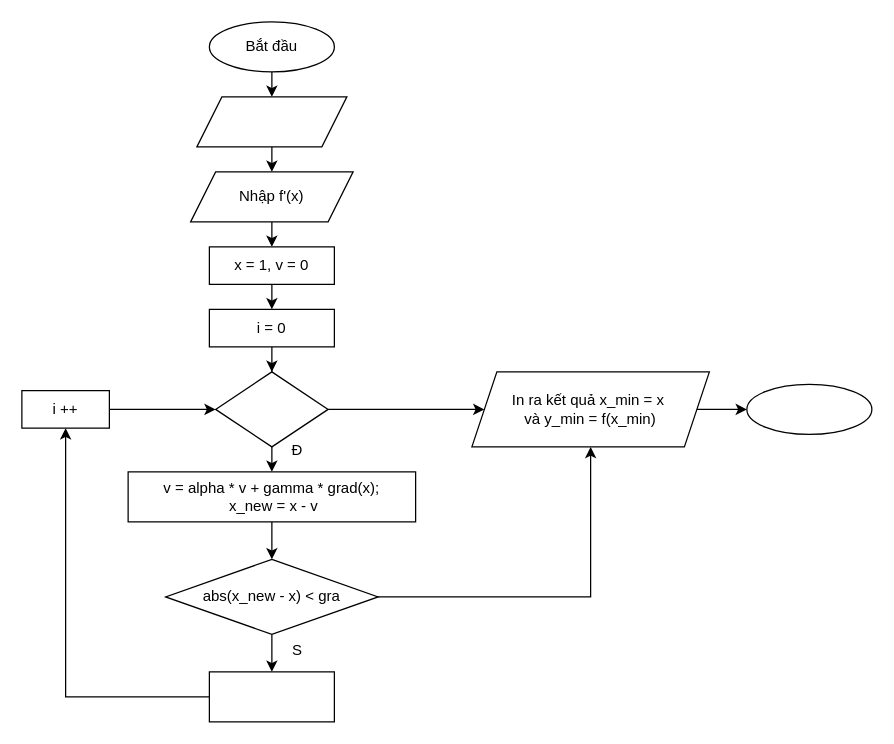
The diagram is 894 pixels wide and 744 high, and some of its shapes have lost their labels. The box of each missing label's shape, as (x1, y1, x2, y2) in pixels:
i <= loop: (214, 371, 328, 447)
Kết thúc: (746, 383, 872, 434)
Nhập f(x): (196, 96, 347, 147)
x = x_new: (208, 671, 334, 722)
